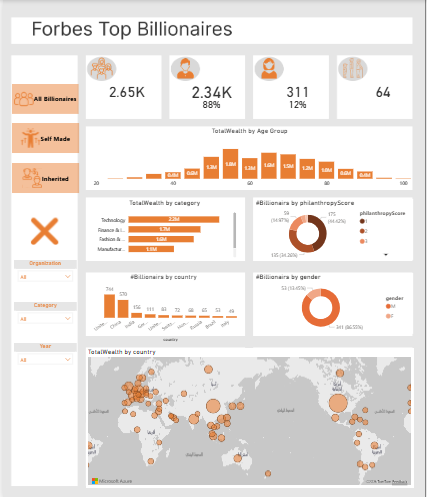

What the dashboard file says about the page in this screenshot:
{"tool":"powerbi","page":{"name":"All Billionaires","canvas":[1073,1266],"ordinal":0},"visuals":[{"type":"cardVisual","fields":{"Data":["MeasureTable.#Billionairs"]},"box":[202.6,157,222.8,149.4],"z":0},{"type":"cardVisual","fields":{"Data":["MeasureTable.Male"]},"box":[418.6,157,222.8,149.4],"z":1000},{"type":"cardVisual","fields":{"Data":["MeasureTable.Female"]},"box":[634.7,157,222.8,149.4],"z":2000},{"type":"cardVisual","fields":{"Data":["MeasureTable.Age(Avg)"]},"box":[850.2,157,222.8,149.4],"z":3000},{"type":"cardVisual","fields":{"Data":["MeasureTable.Male%"]},"box":[377.3,189.9,301.3,149.4],"z":4000},{"type":"cardVisual","fields":{"Data":["MeasureTable.Female%"]},"box":[595,189.9,301.3,149.4],"z":5000},{"type":"clusteredColumnChart","fields":{"Y":["MeasureTable.TotalWealth"],"Category":["forbes_2022_billionaires.Age Group"]},"box":[210,322,829,161],"z":6000},{"type":"barChart","fields":{"Y":["MeasureTable.TotalWealth"],"Category":["forbes_2022_billionaires.category"]},"box":[221.7,505,373.3,153.3],"z":7000},{"type":"donutChart","fields":{"Y":["MeasureTable.#Billionairs"],"Category":["forbes_2022_billionaires.philanthropyScore"]},"box":[635.5,503.9,402.6,154.5],"z":8000},{"type":"columnChart","fields":{"Category":["forbes_2022_billionaires.country"],"Y":["MeasureTable.#Billionairs"]},"box":[203.3,690,408.3,178.3],"z":9000},{"type":"azureMap","fields":{"Size":["MeasureTable.TotalWealth"],"Category":["forbes_2022_billionaires.country","forbes_2022_billionaires.city"]},"box":[210,880,828.3,353.3],"z":10000},{"type":"donutChart","fields":{"Y":["MeasureTable.#Billionairs"],"Category":["forbes_2022_billionaires.gender"]},"box":[635.5,691.2,402.6,154.5],"z":11000},{"type":"actionButton","box":[22.9,212.9,168.6,75.7],"z":12000},{"type":"group","id":"g1","title":"Slicer Group","box":[28.6,546.4,159.1,418.2],"z":13000},{"type":"actionButton","box":[22,412,170,76],"z":14000},{"type":"slicer","title":"Organization","fields":{"Values":["forbes_2022_billionaires.organization"]},"box":[28.6,658.2,159.1,95.5],"z":14000,"group":"g1"},{"type":"actionButton","box":[22,312.3,170,76],"z":15000},{"type":"slicer","title":"Category","fields":{"Values":["forbes_2022_billionaires.category"]},"box":[28.6,763.7,159.1,95.5],"z":15000,"group":"g1"},{"type":"slicer","title":"Year","fields":{"Values":["forbes_2022_billionaires.year"]},"box":[28.6,869.1,159.1,95.5],"z":16000,"group":"g1"},{"type":"actionButton","title":"Close","box":[57.7,547.3,100,77.3],"z":18000,"group":"g1"}]}

Visuals, with their boxes in screenshot pixels (x1, y1, x2, y2), scaled from the page's 1073x1266 canvas onto the 427x497 screenshot:
cardVisual - MeasureTable.#Billionairs: rect(81, 62, 169, 120)
cardVisual - MeasureTable.Male: rect(167, 62, 255, 120)
cardVisual - MeasureTable.Female: rect(253, 62, 341, 120)
cardVisual - MeasureTable.Age(Avg): rect(338, 62, 426, 120)
cardVisual - MeasureTable.Male%: rect(150, 75, 270, 133)
cardVisual - MeasureTable.Female%: rect(237, 75, 357, 133)
clusteredColumnChart - MeasureTable.TotalWealth x forbes_2022_billionaires.Age Group: rect(84, 126, 413, 190)
barChart - MeasureTable.TotalWealth x forbes_2022_billionaires.category: rect(88, 198, 237, 258)
donutChart - MeasureTable.#Billionairs x forbes_2022_billionaires.philanthropyScore: rect(253, 198, 413, 258)
columnChart - forbes_2022_billionaires.country x MeasureTable.#Billionairs: rect(81, 271, 243, 341)
azureMap - MeasureTable.TotalWealth x forbes_2022_billionaires.country: rect(84, 345, 413, 484)
donutChart - MeasureTable.#Billionairs x forbes_2022_billionaires.gender: rect(253, 271, 413, 332)
actionButton: rect(9, 84, 76, 113)
"Slicer Group" group: rect(11, 215, 75, 379)
actionButton: rect(9, 162, 76, 192)
"Organization" slicer: rect(11, 258, 75, 296)
actionButton: rect(9, 123, 76, 152)
"Category" slicer: rect(11, 300, 75, 337)
"Year" slicer: rect(11, 341, 75, 379)
"Close" actionButton: rect(23, 215, 63, 245)
